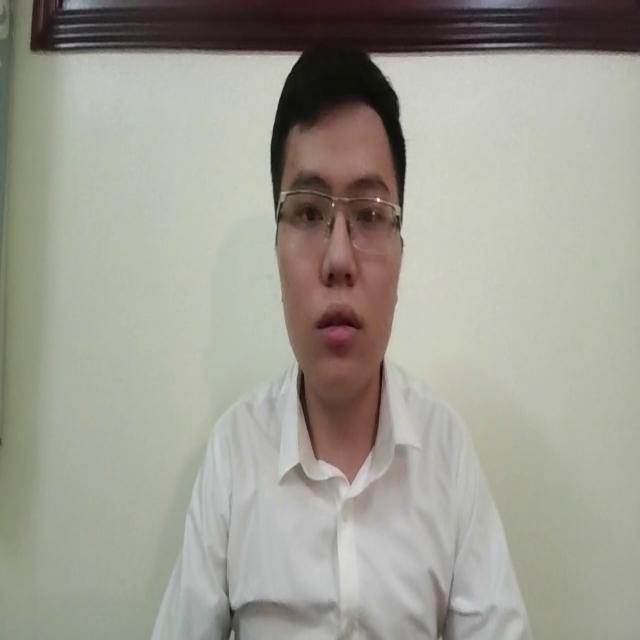student: (160, 55, 526, 640)
